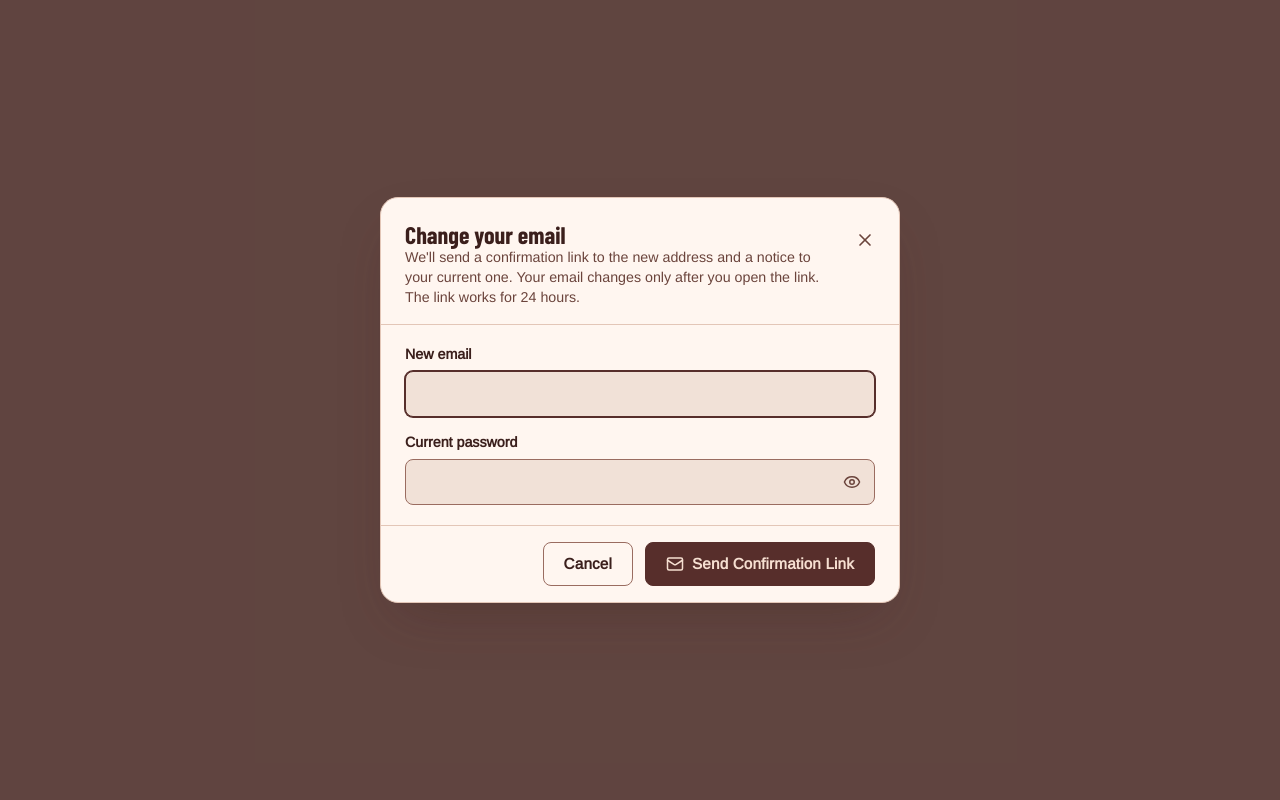
P2 checks before sending (OR-3) › refuses an address that is not shaped like an email
Type "carmen.new@" into the field labelled "New email".
click(640, 394); type("carmen.new@")  # box [406,372,874,416]
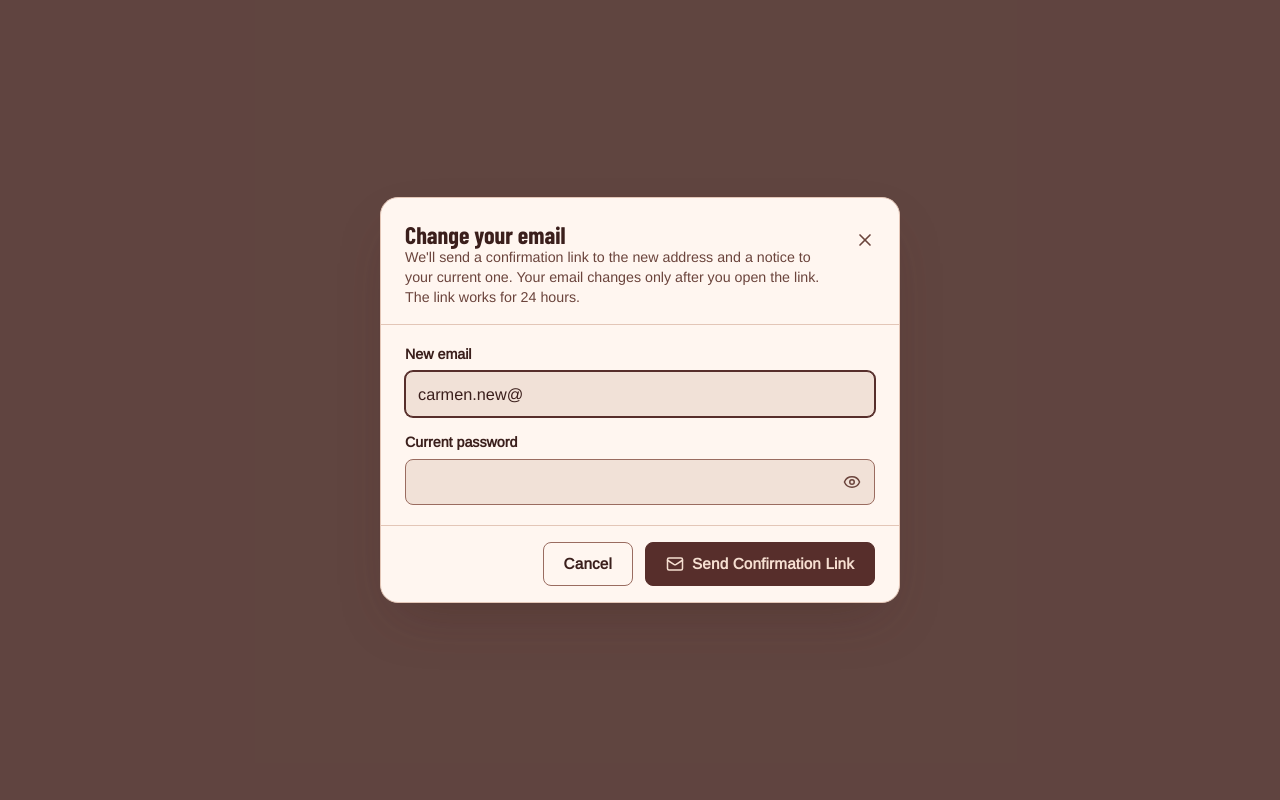
Type "Mabuhay#Tahi2026" into the password field labelled "Current password".
click(640, 482); type("Mabuhay#Tahi2026")  # box [406,460,874,504]
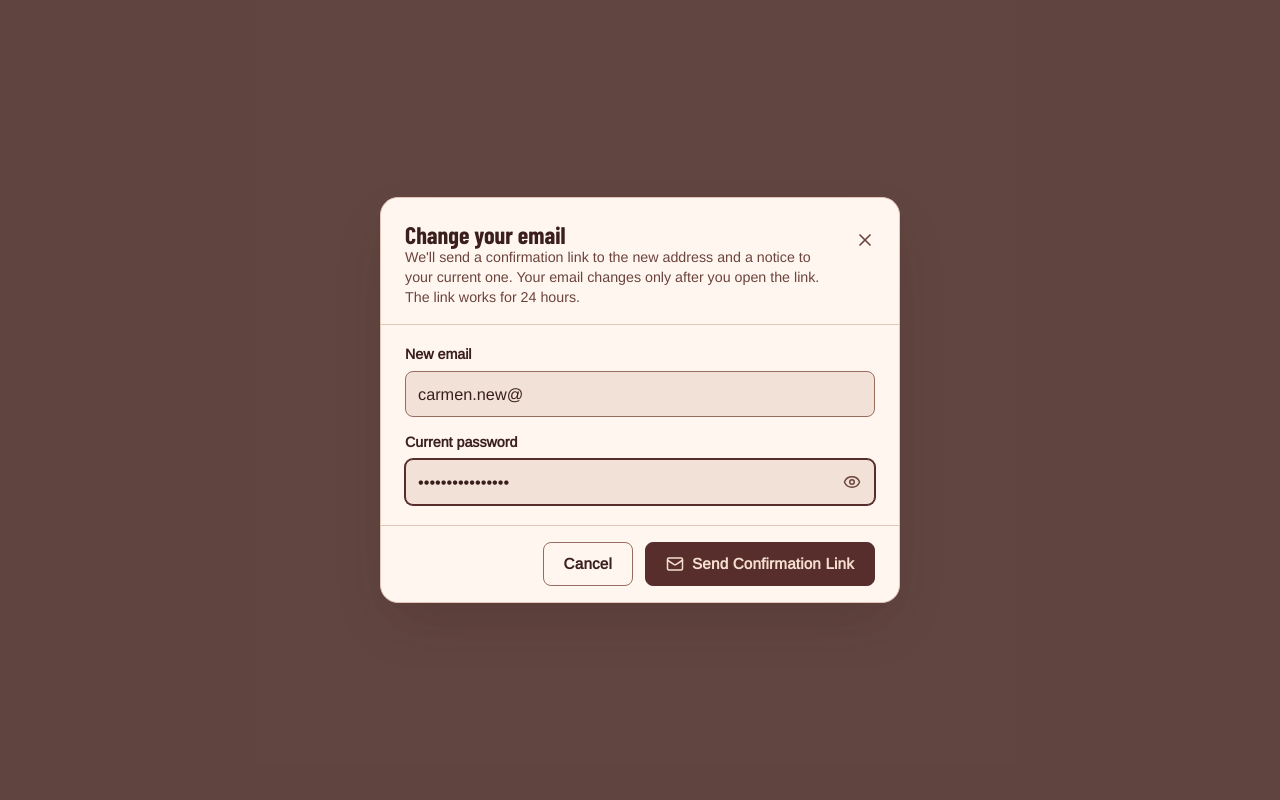
Click the button "Send Confirmation Link".
click(760, 564)  # box [645,542,875,586]
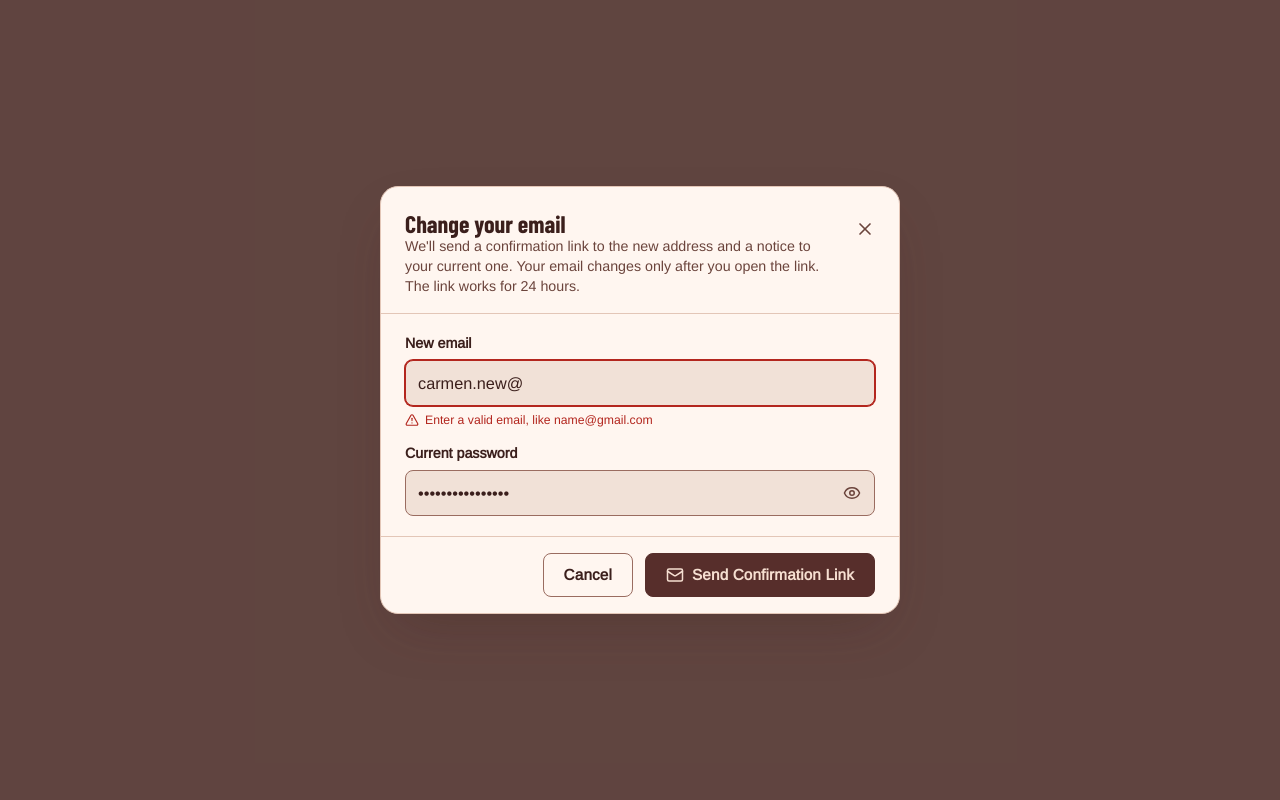
Check: the text "Enter a valid email, like name@gmail.com" is shown, box [405,413,653,427]
